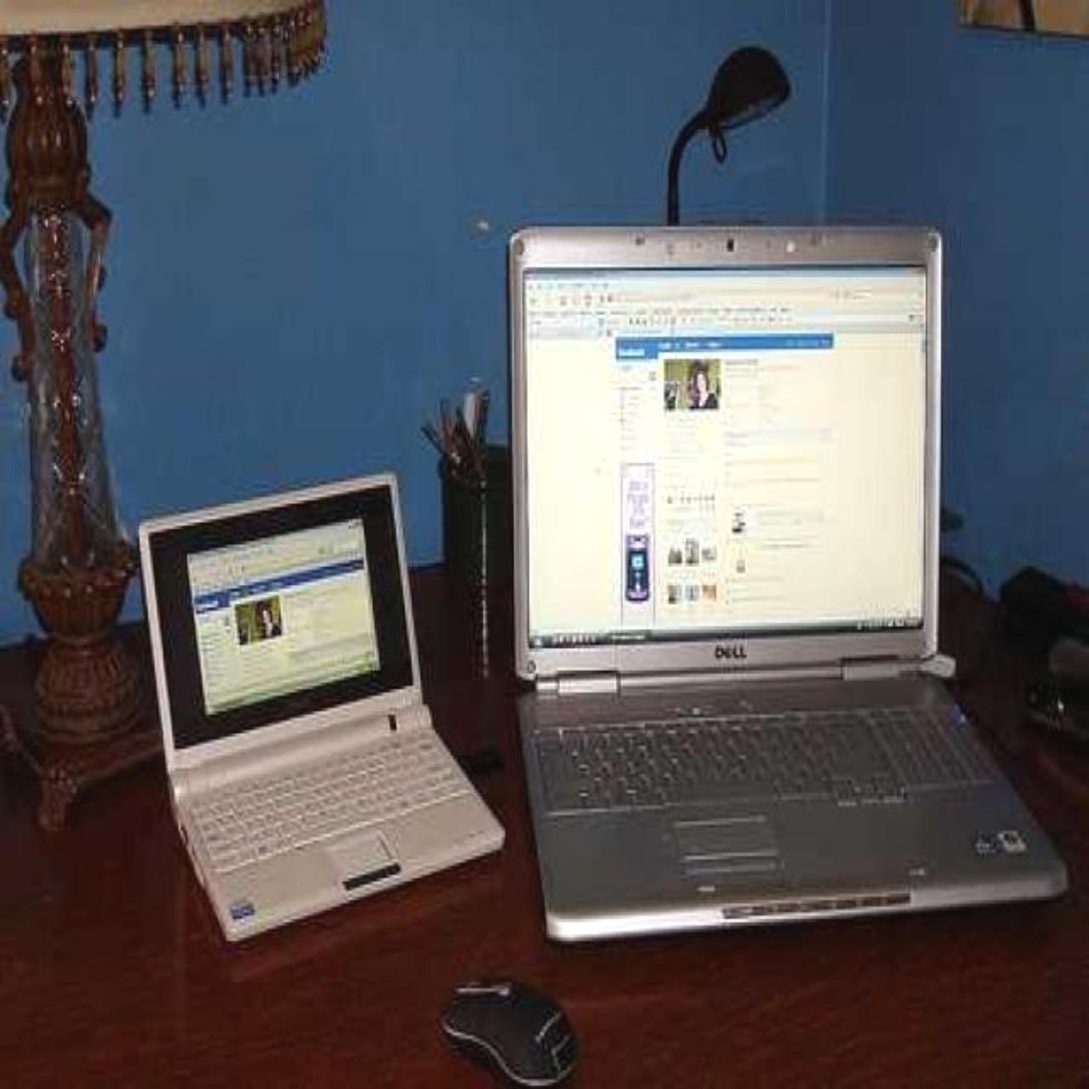laptop: (511, 212, 1075, 986), (140, 486, 506, 944)
